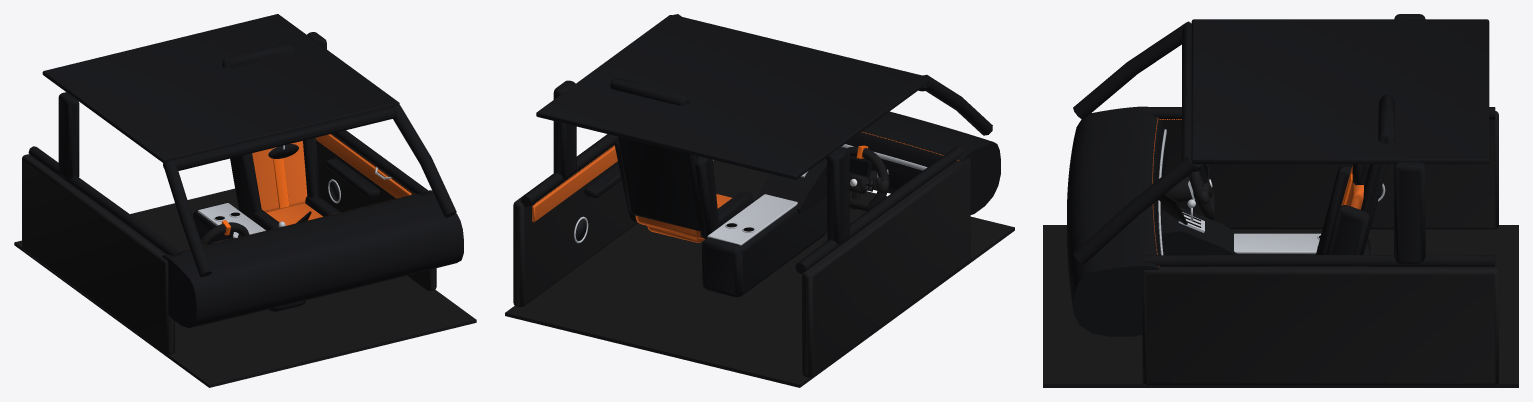
File: int_koenigsegg.glb
The picture shows the model from 3 angles, left to right: view 1: azimuth 30°, elevation 25°; view 2: azimuth 150°, elevation 25°; view 3: azimuth 270°, elevation 25°; orthographic projection. The views are drawn at different scales.
Visible parts, largest first — view 1: box.011, Dash, box.013, box, box.010, box.003, box.016, DoorTop, box.006, Pillar.001, Pillar, box.017 (+11 smaller); view 2: box.011, box.013, box, box.003, box.023, Dash, box.014, DoorTop, box.006, box.015, Stack, box.004 (+9 smaller); view 3: box.011, box.003, Dash, box.013, box, DoorTop.001, box.008, Stack, Pillar.001, Pillar, box.023, box.015 (+8 smaller).
Boxes of the visible parts, x1,y1,x2,y2 form: box.011: (42,14,399,163); Dash: (162,190,463,328); box.013: (14,188,476,387); box: (22,154,174,354); box.010: (163,106,395,170); box.003: (316,130,436,290); box.016: (252,141,307,212); DoorTop: (28,146,181,256); box.006: (58,92,79,180); Pillar.001: (392,105,456,217); Pillar: (163,160,211,277); box.017: (230,153,261,217); box.011: (536,15,929,179); box.013: (505,160,1014,387); box: (802,158,970,377); box.003: (513,134,637,307); box.023: (610,78,704,231); Dash: (825,111,1000,214); box.014: (702,197,826,297); DoorTop: (795,146,964,273); box.006: (827,147,849,244); box.015: (707,194,797,245); Stack: (756,159,826,214); box.004: (532,146,617,221); box.011: (1191,19,1489,164); box.003: (1142,266,1498,385); Dash: (1067,106,1166,336); box.013: (1043,225,1518,387); box: (1160,111,1498,229); DoorTop.001: (1142,254,1495,266); box.008: (1394,161,1425,263); Stack: (1162,207,1238,255); Pillar.001: (1073,156,1195,264); Pillar: (1073,21,1191,119); box.023: (1360,95,1394,254); box.015: (1234,233,1320,253).
Bounding box in the file's own units: 1.93 × 1.27 × 2.4.
